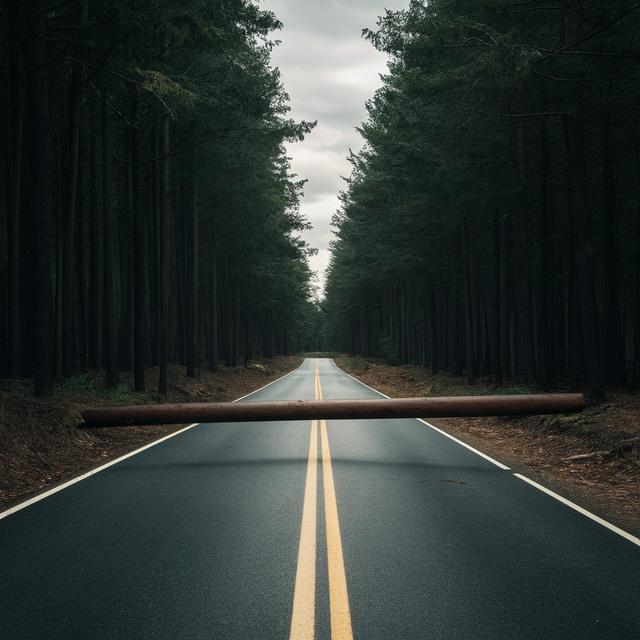Inclined Pole: (68, 392, 588, 427)
